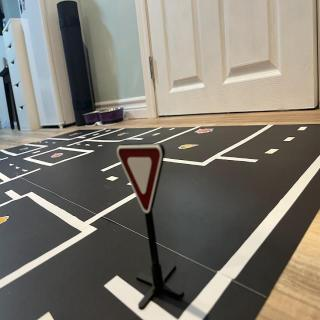sign_yield: (118, 146, 164, 216)
